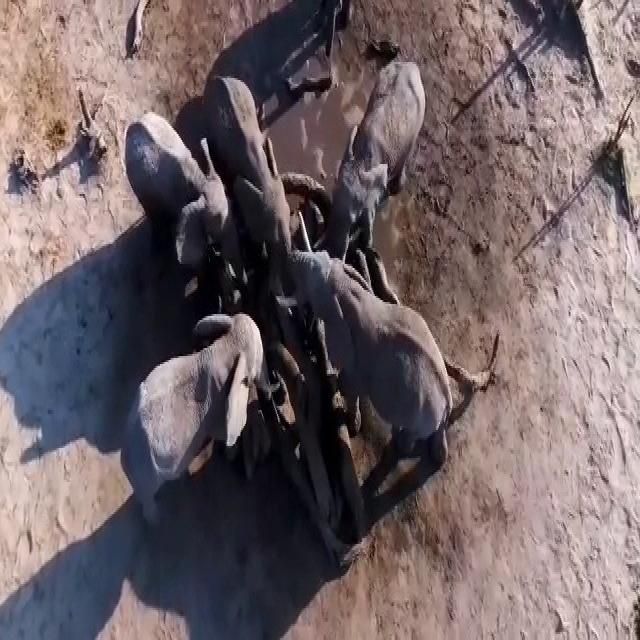Elephant: (122, 310, 269, 516), (298, 247, 451, 438), (213, 59, 293, 271), (121, 99, 223, 252), (336, 70, 436, 221)
